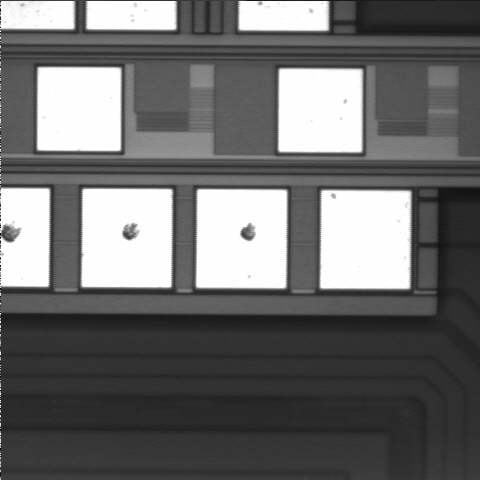pad: (196, 189, 287, 288), (320, 190, 411, 289), (82, 189, 172, 287), (37, 67, 121, 151), (279, 69, 362, 152)
